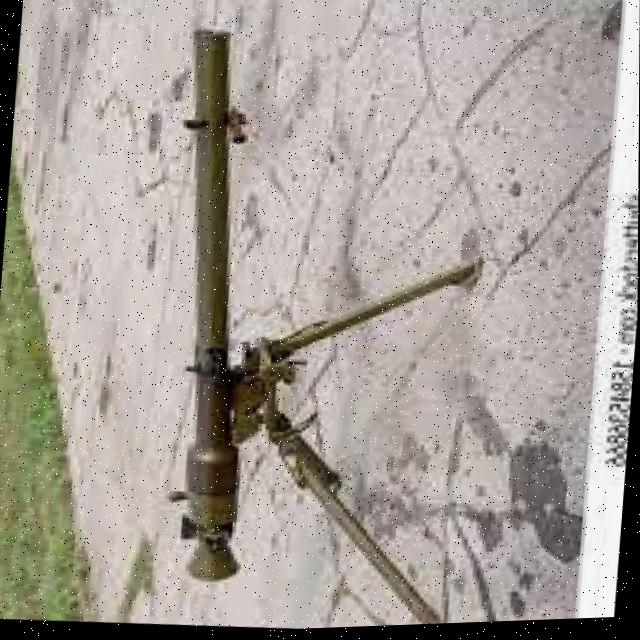rocket: (146, 28, 285, 589)
